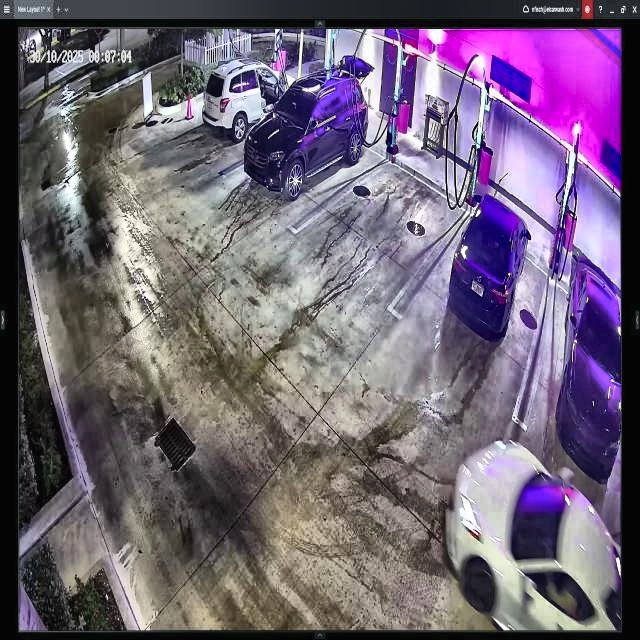Car: (446, 442, 621, 634), (244, 62, 368, 197), (448, 196, 530, 334)
